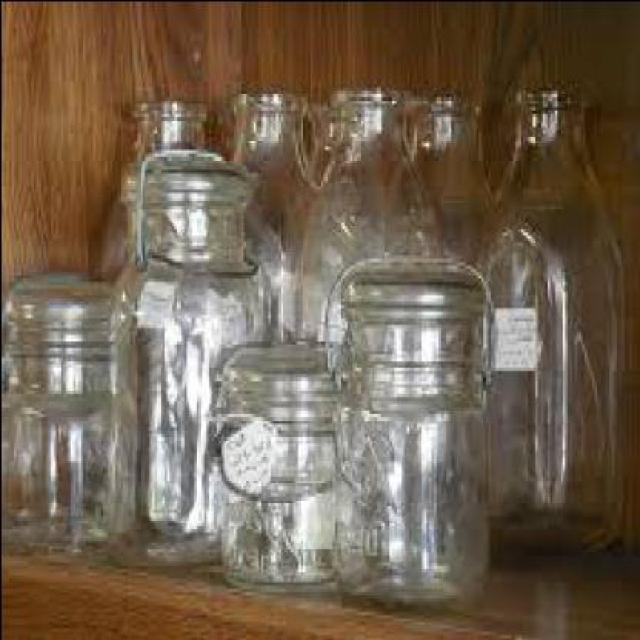GLASS: (477, 80, 628, 551), (106, 148, 269, 554), (338, 280, 492, 597), (294, 88, 440, 347), (2, 271, 133, 557), (216, 340, 346, 583), (104, 92, 210, 280), (408, 92, 494, 257), (228, 89, 314, 245)
